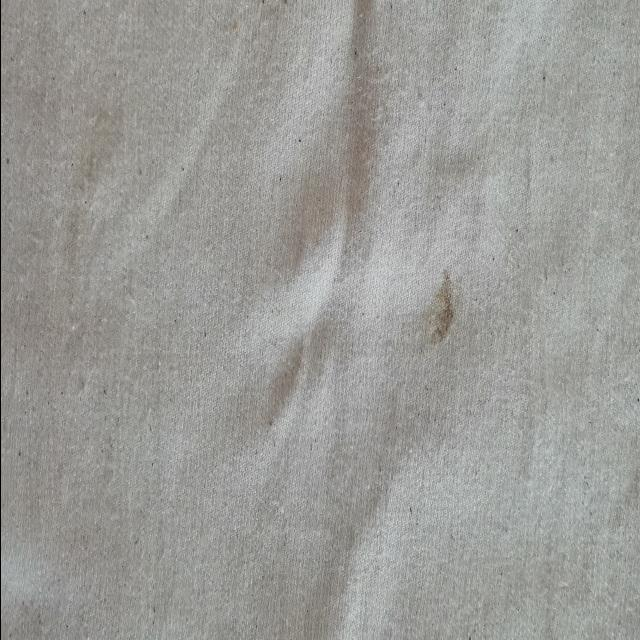taaaches: (402, 243, 467, 383)
